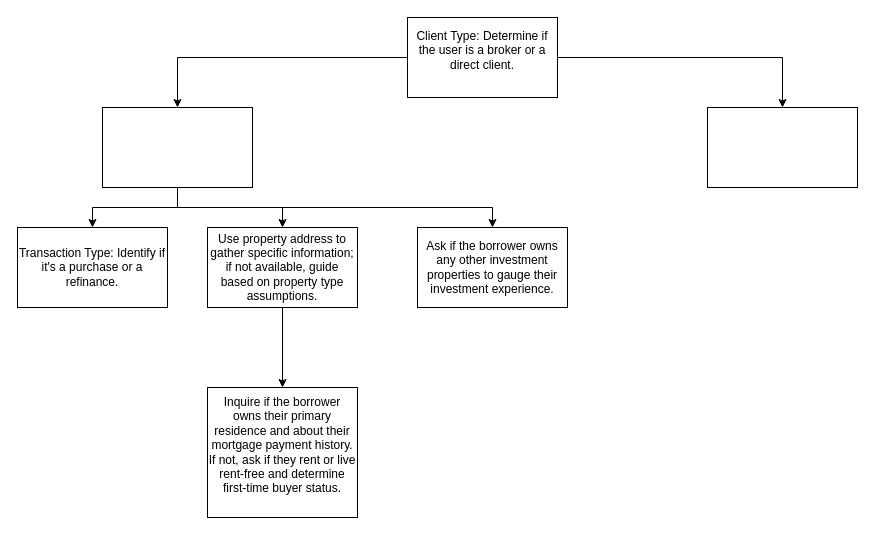
Image size: 875x535. Some labels were removed from this diagram. Each missing label, with the centre of its shape:
"broker" goes at point (782, 147).
"direct client." goes at point (177, 147).
